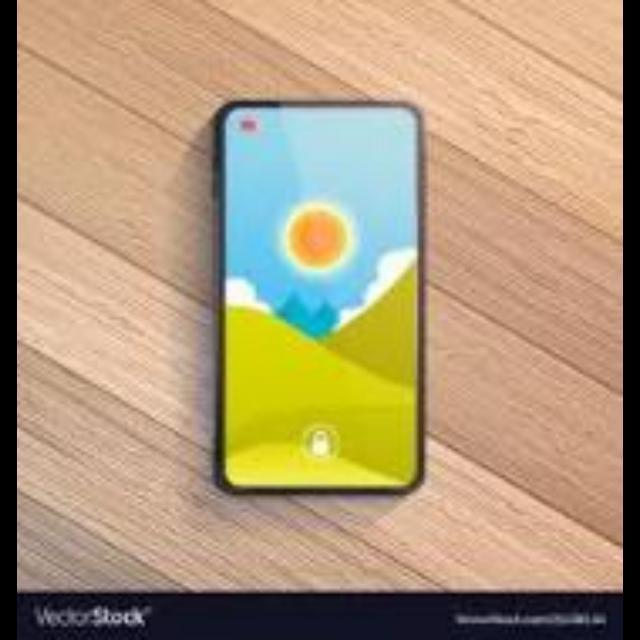PhoneUse: (214, 98, 426, 494)
